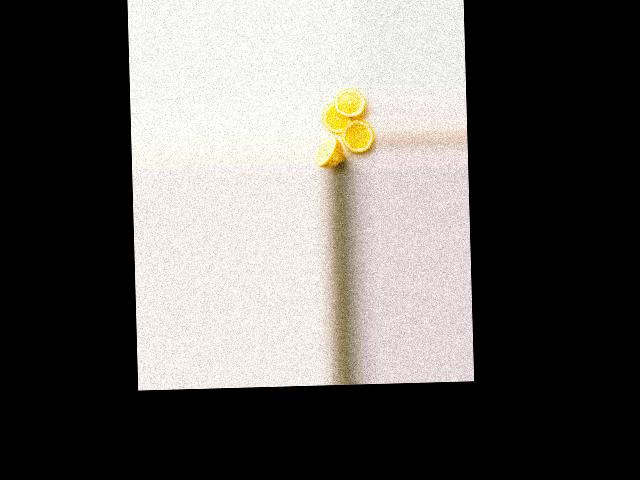lemon: (313, 135, 342, 170)
